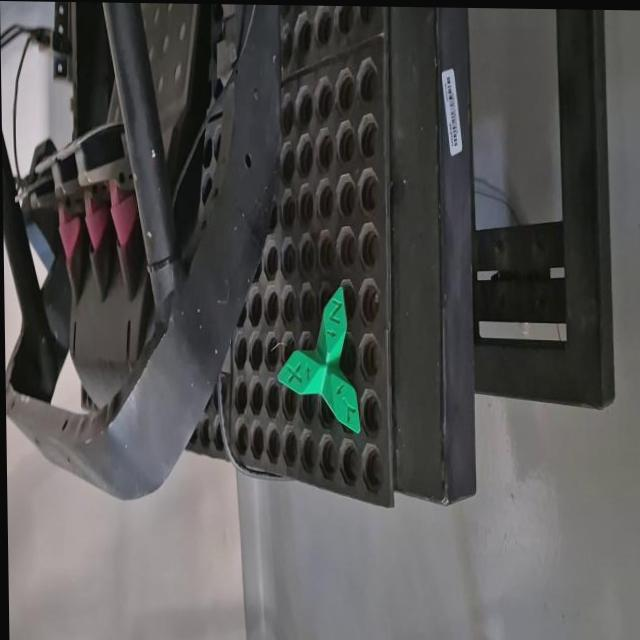eje: (276, 284, 362, 435)
